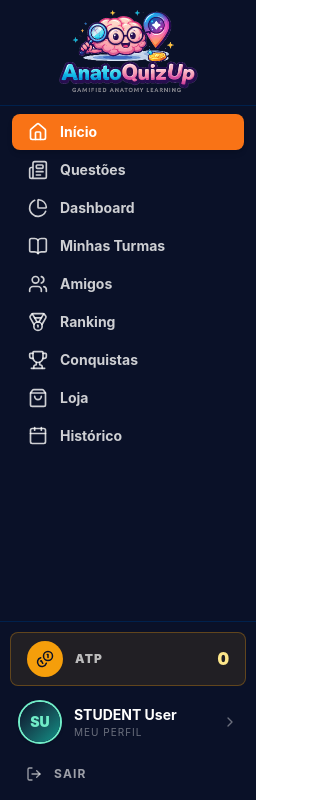
Header › renders student navigation and logs out to the login route
The width and height of the screenshot is (320, 800).
Click the button with aria-label "Sair da conta" at (128, 774), box [10,758,246,790]
(page scrolled)
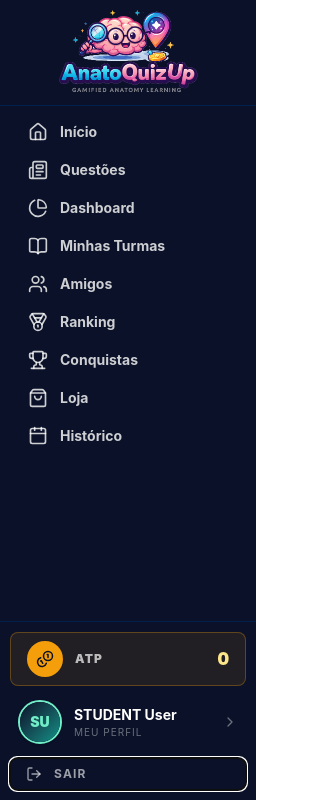
expect the text with test id "location" reads "/login": met, box [0,778,42,798]
